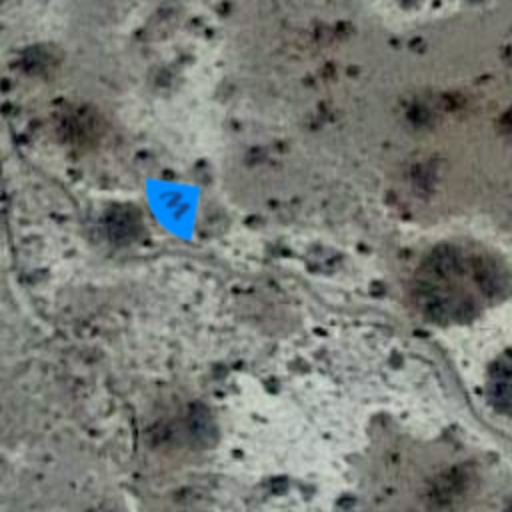quarter_circle: (122, 154, 226, 258)
